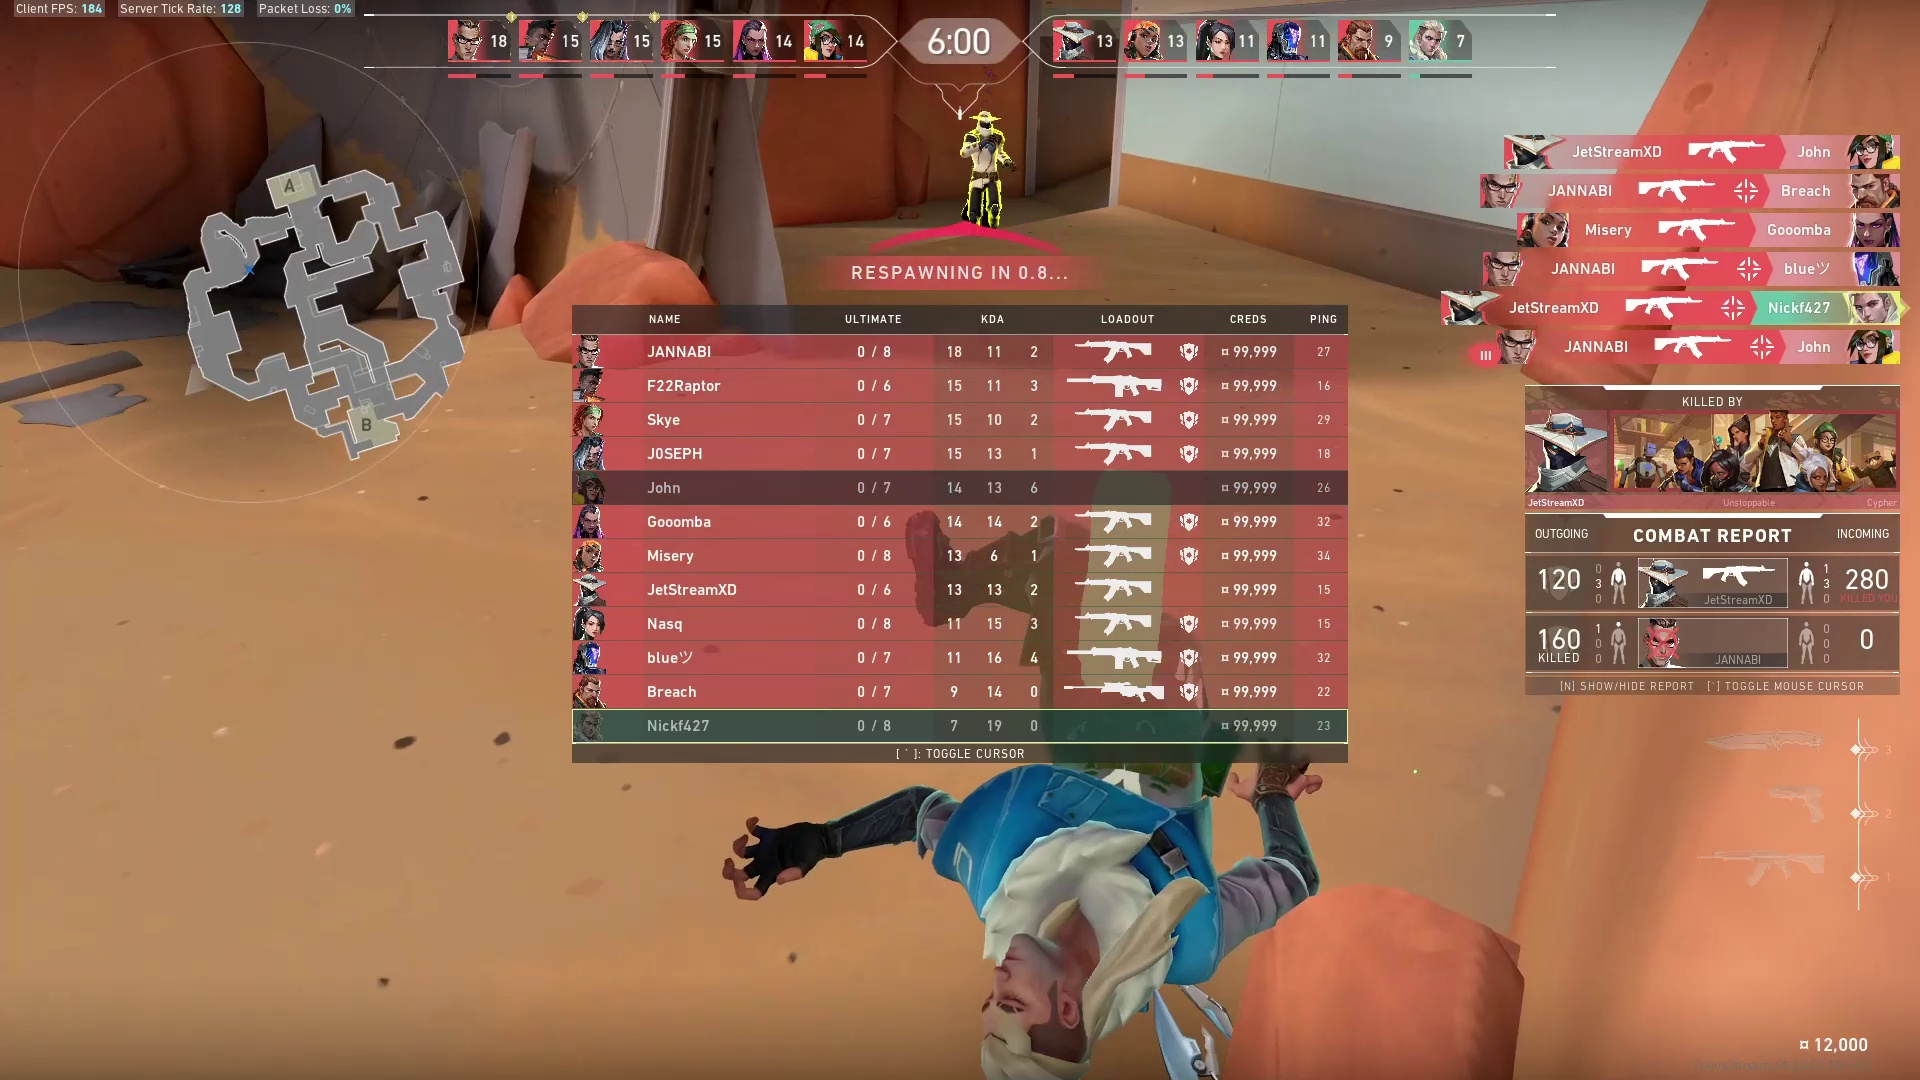enemy_body: (957, 129, 1013, 231)
enemy_head: (972, 106, 1002, 130)
